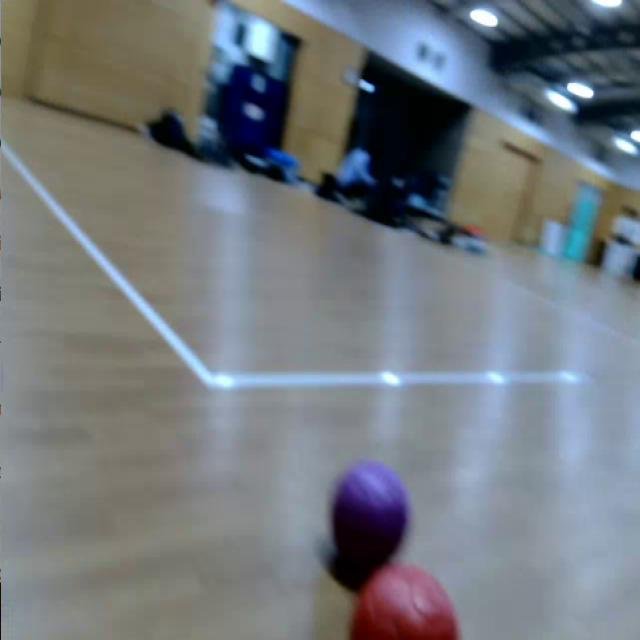purple_ball: (330, 457, 410, 568)
red_ball: (348, 560, 465, 640)
